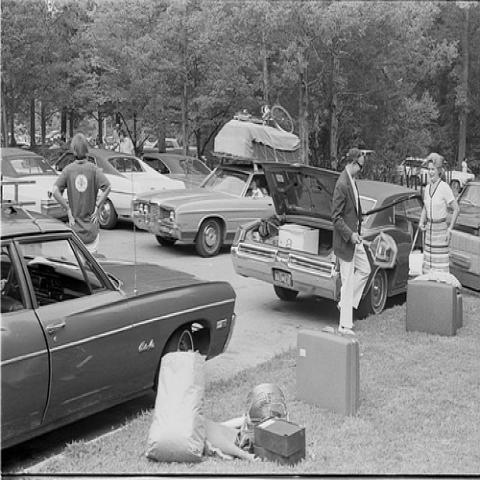car: (0, 198, 240, 447), (229, 162, 424, 315), (130, 155, 293, 258), (51, 150, 186, 230), (0, 147, 67, 219), (448, 176, 479, 292), (142, 152, 213, 191), (398, 157, 476, 192), (143, 138, 208, 159), (340, 150, 378, 170)
